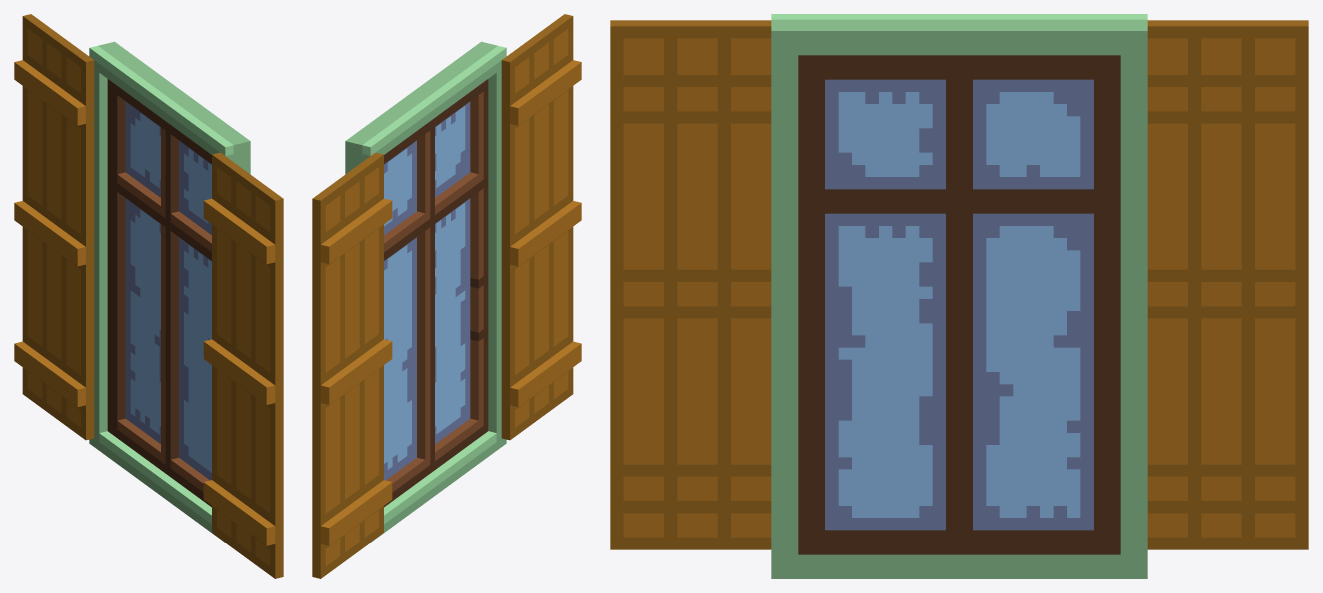
The model's file is window_textured_big_orange_green.obj.
3 renders of one model, left to right at view 1: azimuth 30°, elevation 25°; view 2: azimuth 150°, elevation 25°; view 3: azimuth 270°, elevation 25°, orthographic. The views are drawn at different scales.
Size of the model in its own units: 0.5 by 4.5 by 5.2.
Materials: 1 (1 with a texture image).
